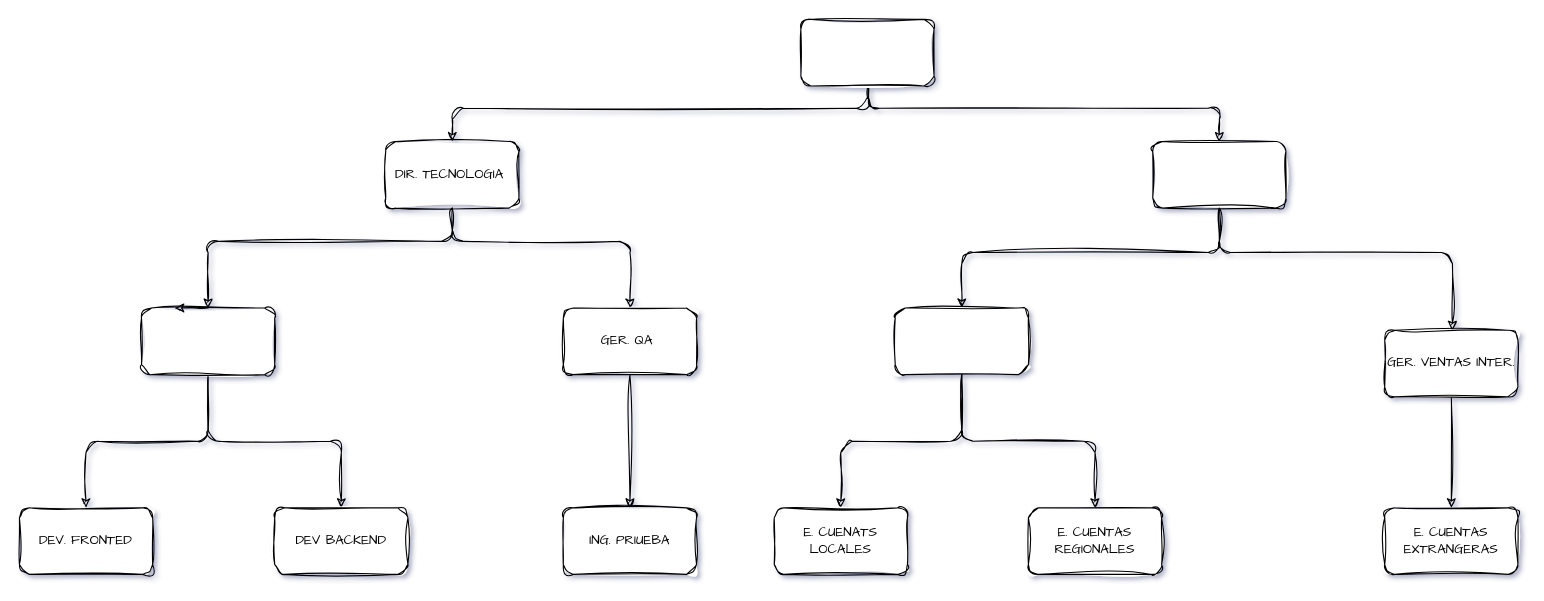
Some shapes in this 1544 by 601 pixel diagram are drawn without their labels. The shapes that lost their labels are listed below. From the top down, each one's box as (x1, y1, x2, y2) in pixels, then its label:
(800, 18, 934, 86): CO / DIR. GENERAL
(1152, 140, 1286, 208): DIR. VENTAS
(140, 307, 275, 375): GER. DESARROLLO
(894, 307, 1028, 375): GER. NENTAS NAC.
